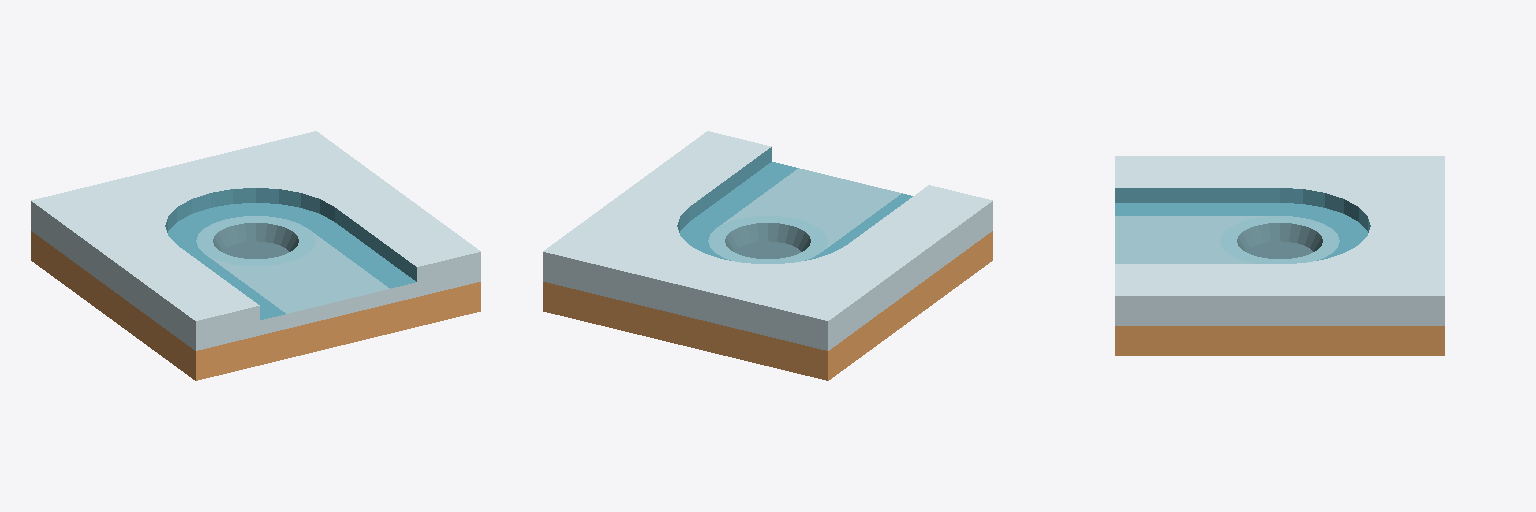
The model's file is snow_tile_endRoundSpawn.obj.
3 renders of one model, left to right at view 1: azimuth 30°, elevation 25°; view 2: azimuth 150°, elevation 25°; view 3: azimuth 270°, elevation 25°, orthographic.
Visible parts, largest first — view 1: snow_tile_endRoundSpawn; view 2: snow_tile_endRoundSpawn; view 3: snow_tile_endRoundSpawn.
Part boxes in pixels (left/top/right/bottom): snow_tile_endRoundSpawn: left=31, top=131, right=480, bottom=380; snow_tile_endRoundSpawn: left=543, top=131, right=992, bottom=380; snow_tile_endRoundSpawn: left=1115, top=156, right=1444, bottom=355.
Size of the model in its own units: 1 by 0.2 by 1.